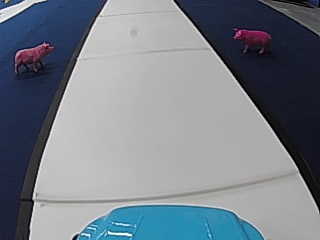pig: (11, 39, 53, 74), (230, 24, 272, 55)
